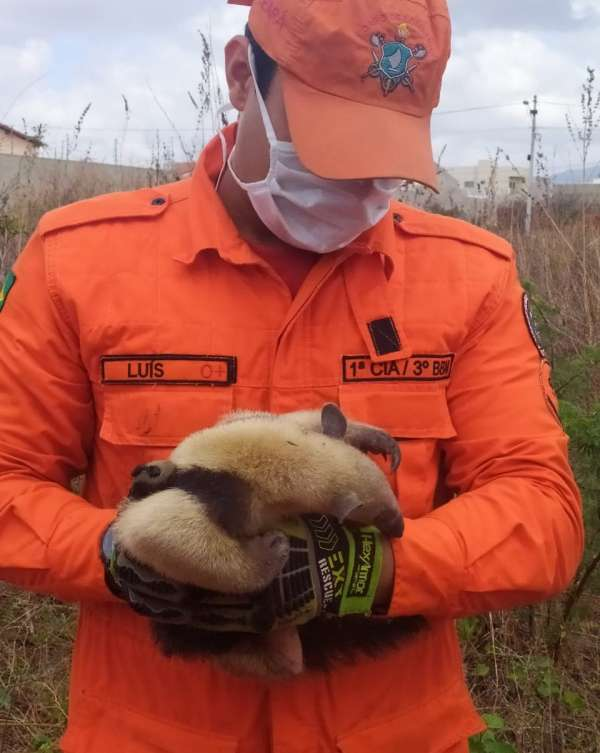TamanduaBandeira: (104, 408, 408, 611)
